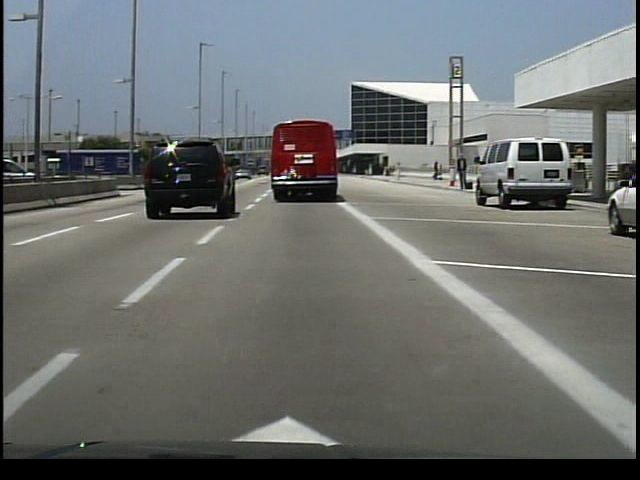person: (455, 153, 469, 195)
